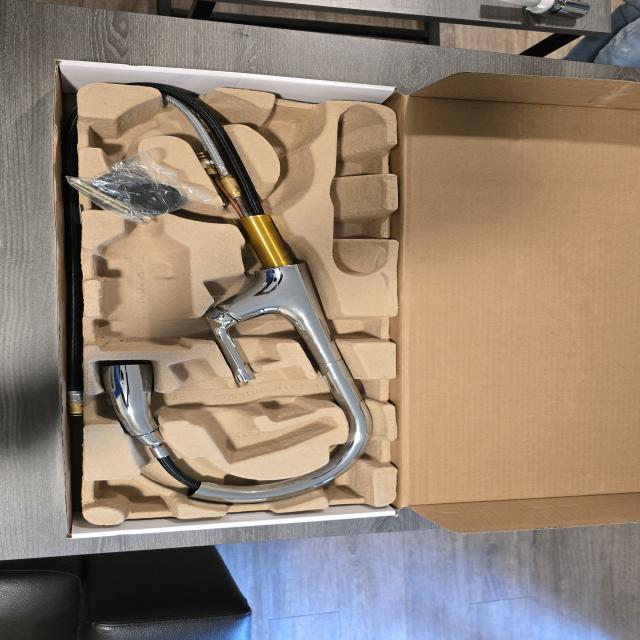1: (95, 86, 372, 504)
2m: (169, 358, 338, 465)
3m: (95, 215, 192, 352)
4m: (330, 104, 388, 276)
5m: (259, 108, 316, 152)
6m: (85, 105, 177, 148)
7: (65, 149, 219, 224)
